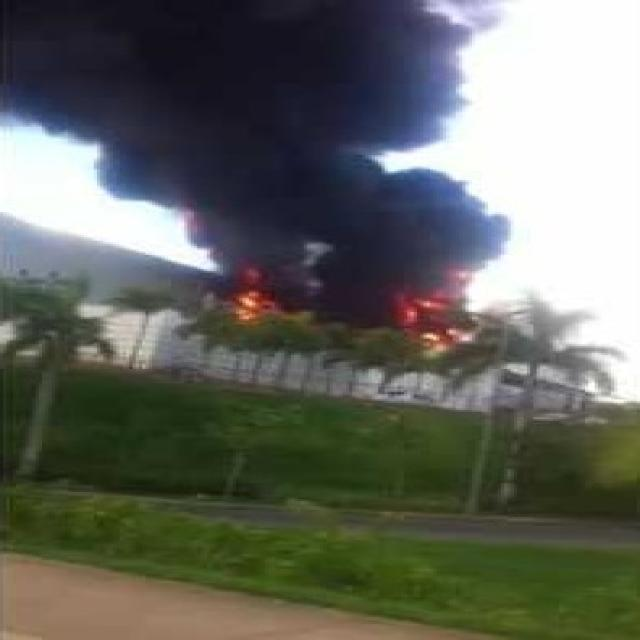Fire: (372, 285, 498, 355), (203, 285, 274, 332)
Smoke: (16, 11, 559, 360)
